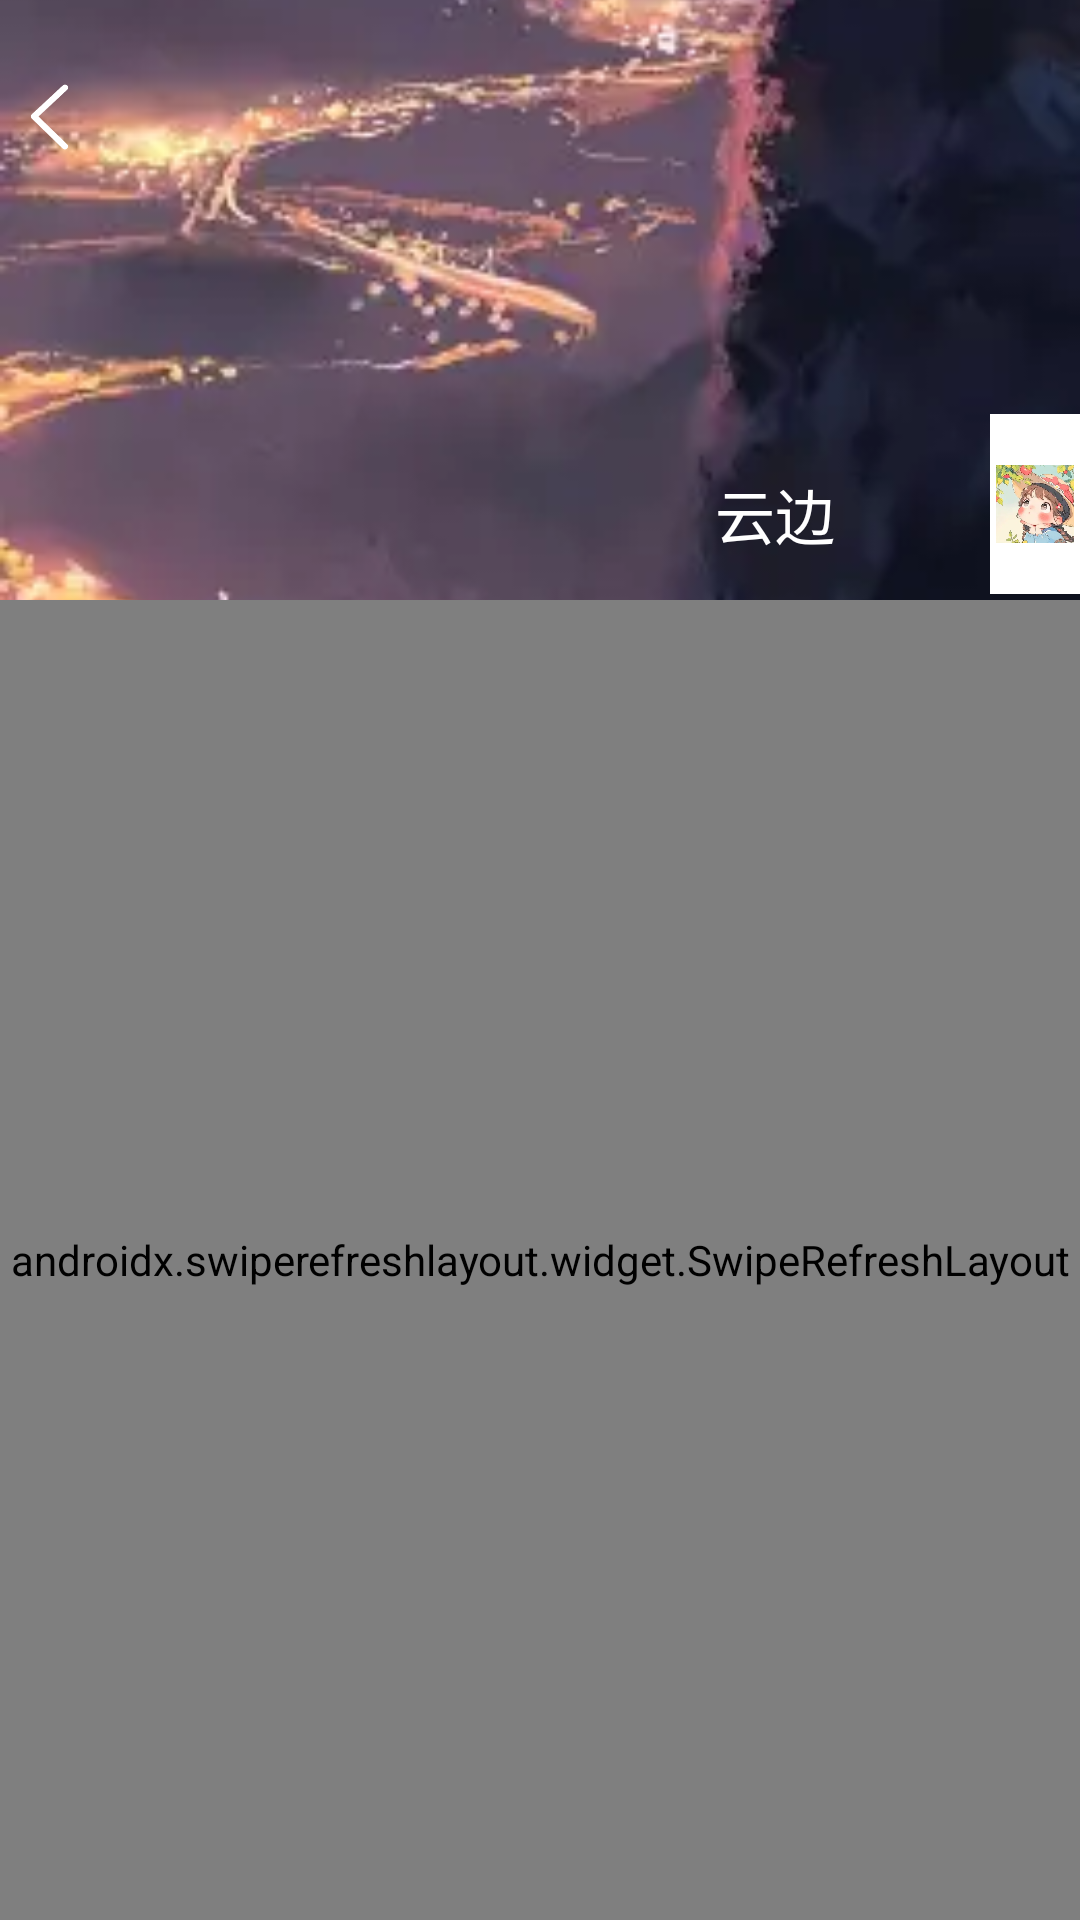

Icons on this 1080px×1920px Android screen, each with the point to tap as (x=x, y=y):
返回: (x=49, y=115)
